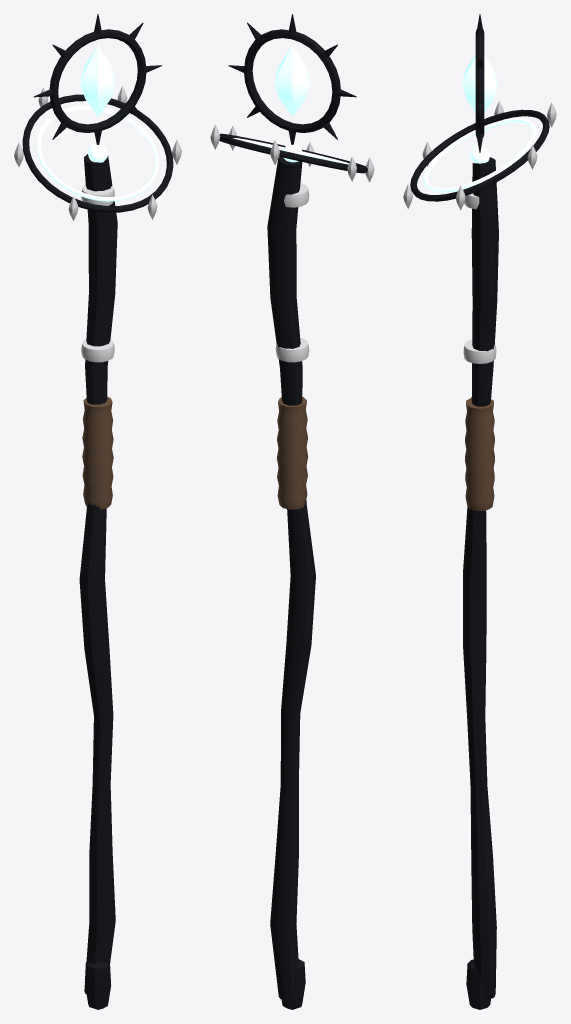
File: esc_w_mage_staff_7.glb
3 views of the same model, side by side, from view 1: azimuth 30°, elevation 25°; view 2: azimuth 150°, elevation 25°; view 3: azimuth 270°, elevation 25° (orthographic).
Parts seen in each view (by area): view 1: esc_w_mage_staff_7; view 2: esc_w_mage_staff_7; view 3: esc_w_mage_staff_7.
Boxes of the visible parts, bbox=[...] form: esc_w_mage_staff_7: bbox=[14, 14, 181, 1009]; esc_w_mage_staff_7: bbox=[210, 14, 374, 1009]; esc_w_mage_staff_7: bbox=[403, 14, 556, 1009].
Size of the model in its own units: 0.2987 by 1.93 by 0.2702.
